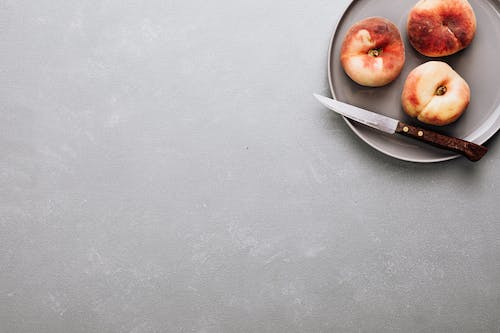knife: (312, 90, 490, 164)
